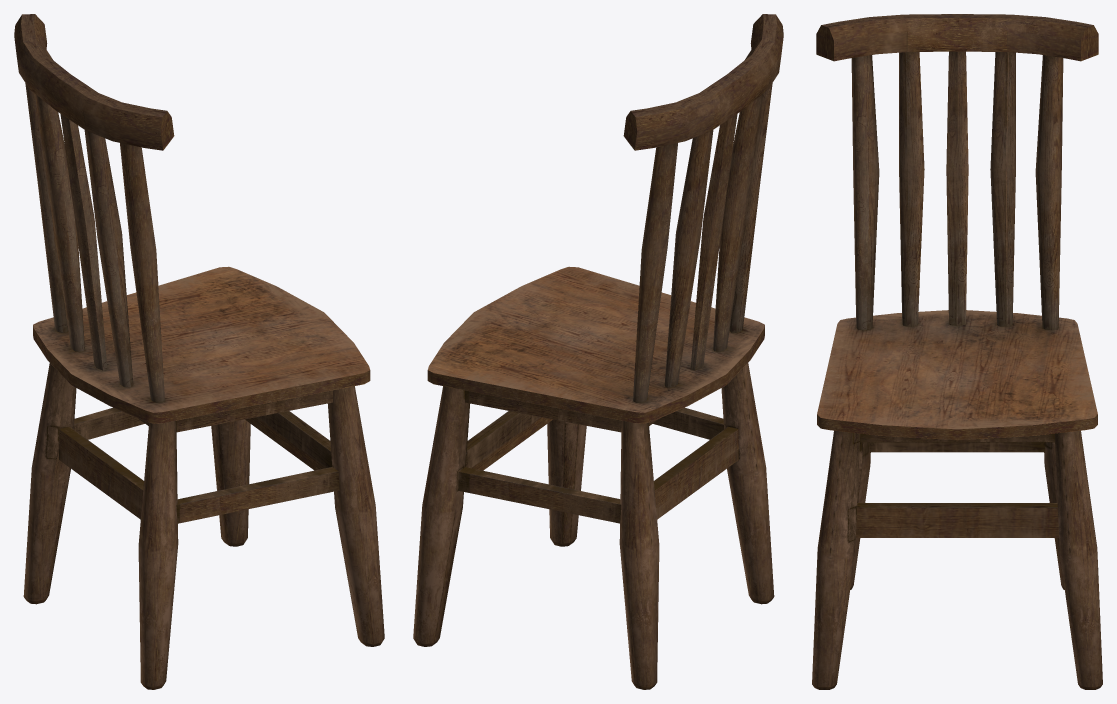
File: SM_Chair.fbx
3 renders of one model, left to right at view 1: azimuth 30°, elevation 25°; view 2: azimuth 150°, elevation 25°; view 3: azimuth 270°, elevation 25°, orthographic. The views are drawn at different scales.
Visible parts, largest first — view 1: Chair; view 2: Chair; view 3: Chair.
Boxes of the visible parts, left/top/right/bottom form: Chair: left=14, top=14, right=384, bottom=689; Chair: left=413, top=14, right=783, bottom=689; Chair: left=812, top=14, right=1102, bottom=689.
Bounding box in the file's own units: 58.2 × 55.73 × 119.
Materials: 1 (1 with a texture image).
